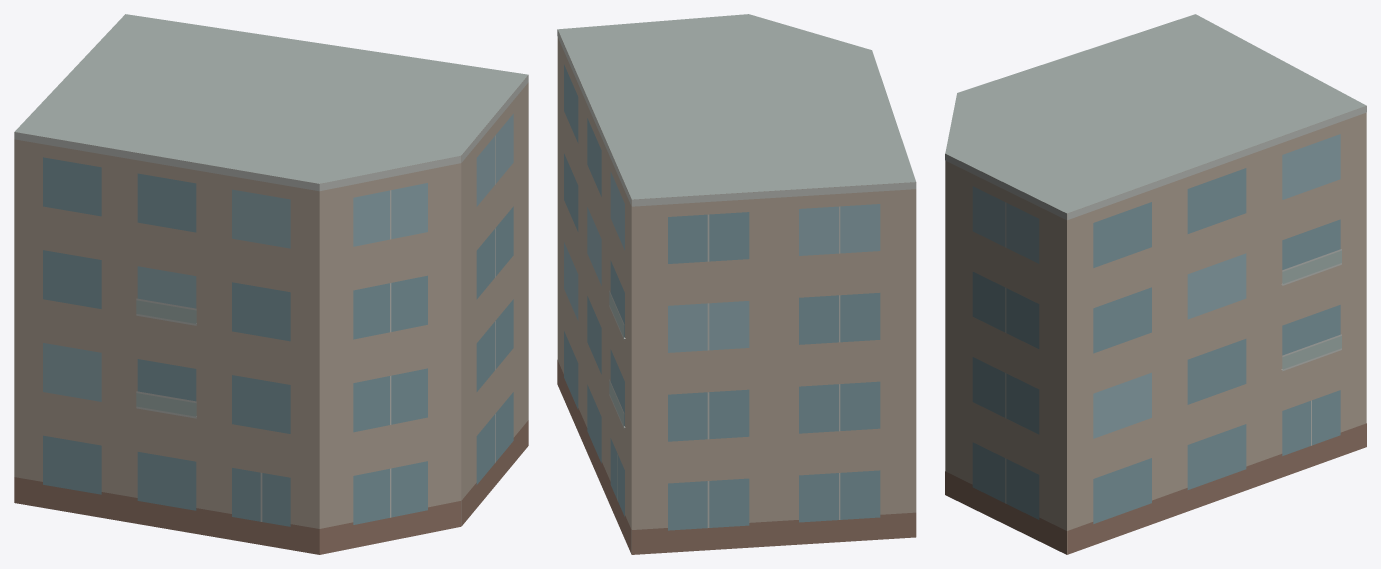
Rendered from survey-upis-32844014.glb.
3 views of the same model, side by side, from view 1: azimuth 30°, elevation 25°; view 2: azimuth 150°, elevation 25°; view 3: azimuth 270°, elevation 25° (orthographic). The views are drawn at different scales.
Visible parts, largest first — view 1: survey-upis-32844014.tmp; view 2: survey-upis-32844014.tmp; view 3: survey-upis-32844014.tmp.
Boxes of the visible parts, x1,y1,x2,y2 form: survey-upis-32844014.tmp: [14, 14, 528, 554]; survey-upis-32844014.tmp: [557, 14, 916, 554]; survey-upis-32844014.tmp: [945, 14, 1366, 554].
Bounding box in the file's own units: 15.3 × 12.2 × 13.66.
